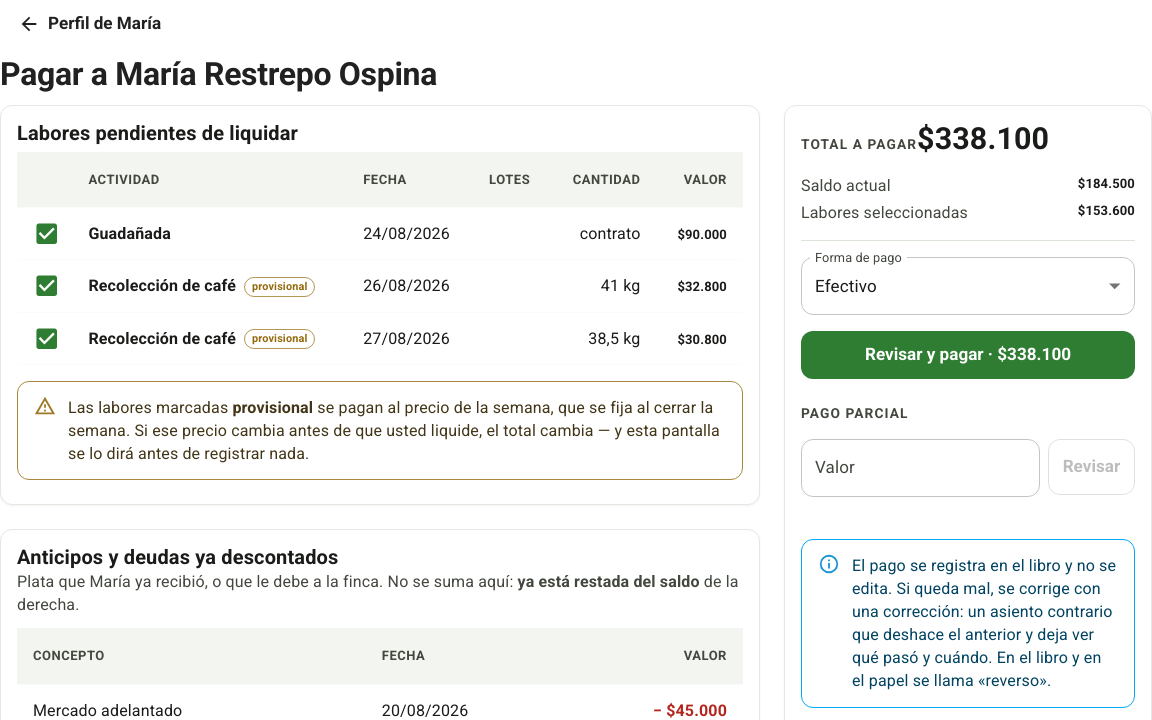
Test case: failures › shows a payment the server refused for another reason
Expected: the heading "Labores pendientes de liquidar" is shown, [17,120,298,144]
Click the button "Revisar y pagar · $338.100": (968,355) [801,331,1135,379]
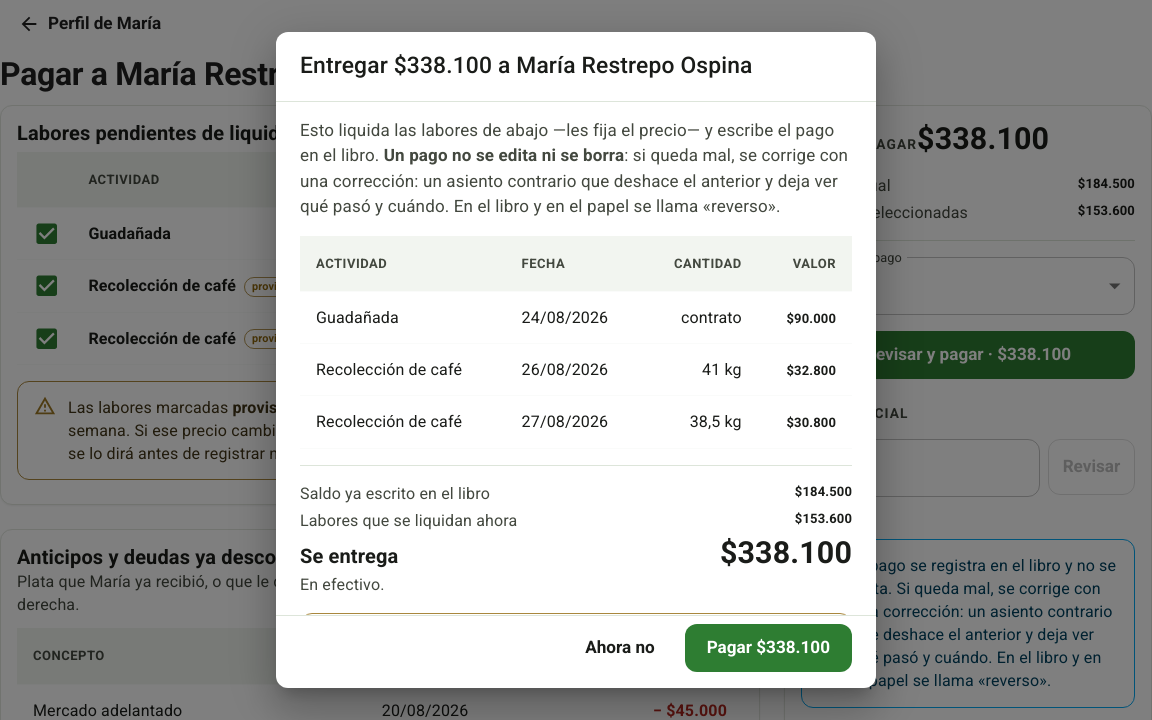
Click the button "Pagar $338.100": (768,648) [685,624,852,672]
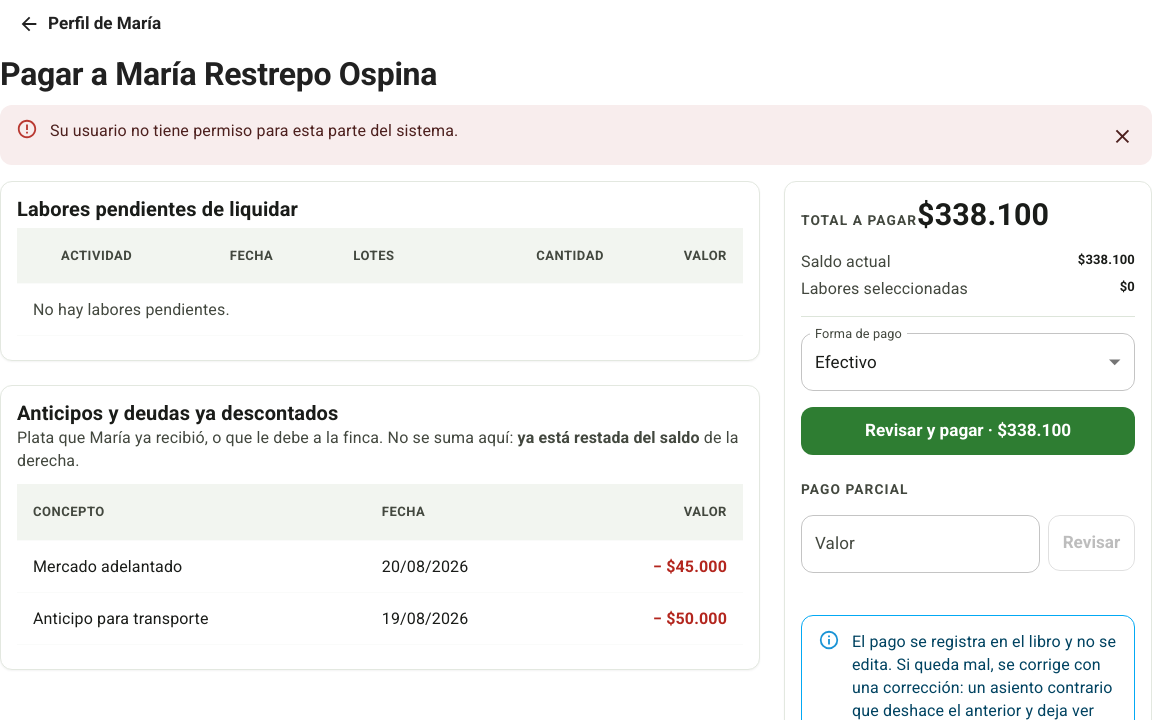
Expected: the text "Su usuario no tiene permiso para esta parte del sistema." is shown, [50,120,458,140]
